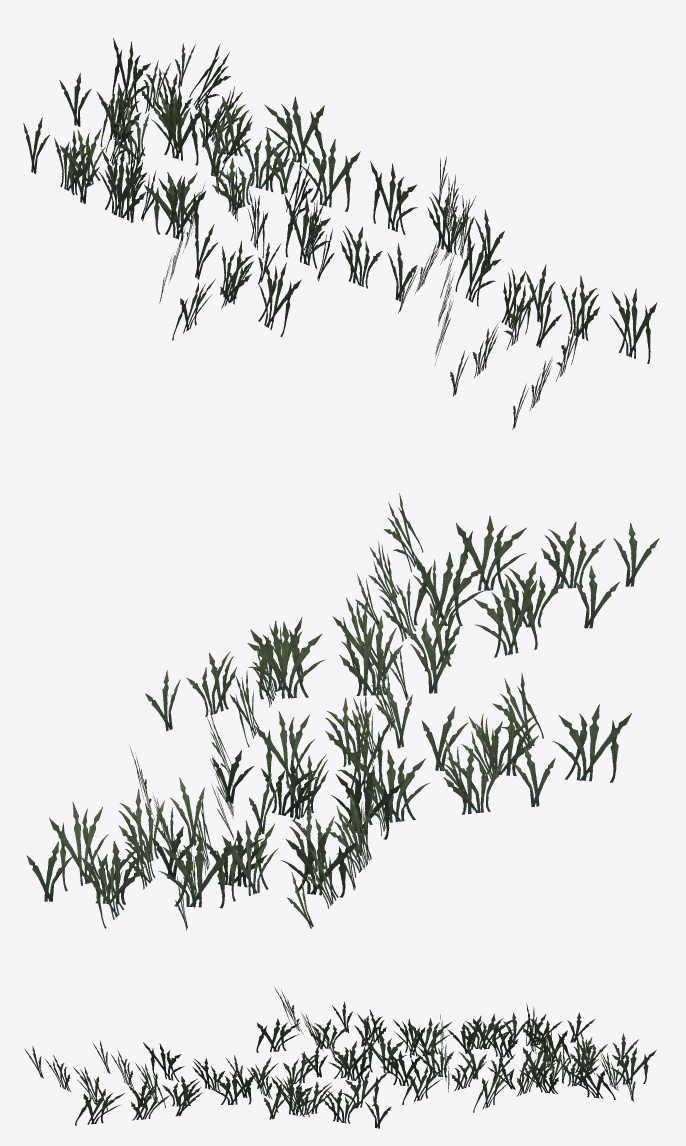
The model's file is map_forest_p_grass001.FBX.
The picture shows the model from 3 angles, top to bottom: view 1: azimuth 30°, elevation 25°; view 2: azimuth 150°, elevation 25°; view 3: azimuth 270°, elevation 25°; orthographic projection. The views are drawn at different scales.
Parts seen in each view (by area): view 1: map_forest_p_grass001; view 2: map_forest_p_grass001; view 3: map_forest_p_grass001.
Boxes of the visible parts, left/top/right/bottom form: map_forest_p_grass001: left=23, top=37, right=657, bottom=429; map_forest_p_grass001: left=26, top=493, right=659, bottom=930; map_forest_p_grass001: left=24, top=987, right=656, bottom=1128.
Size of the model in its own units: 111 by 23.2 by 247.
